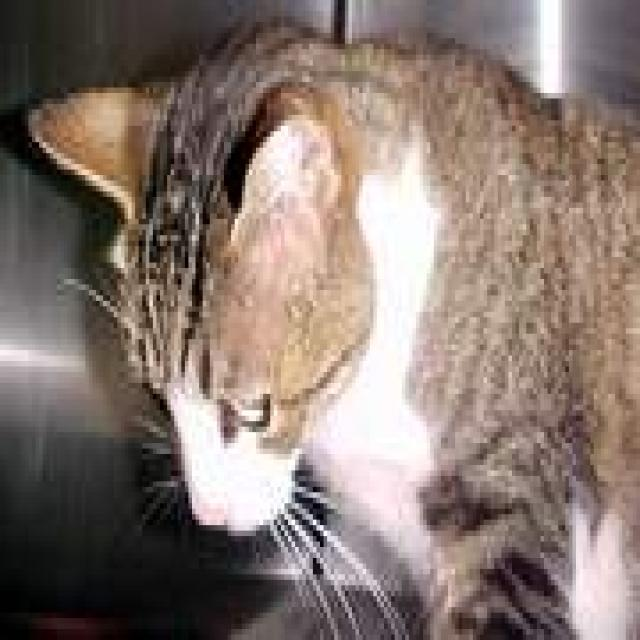Cats: (61, 11, 636, 634)
